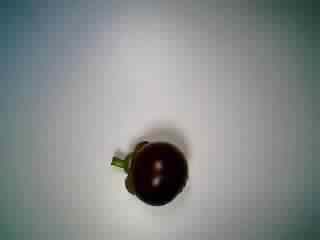mangosteen: (106, 131, 191, 209)
